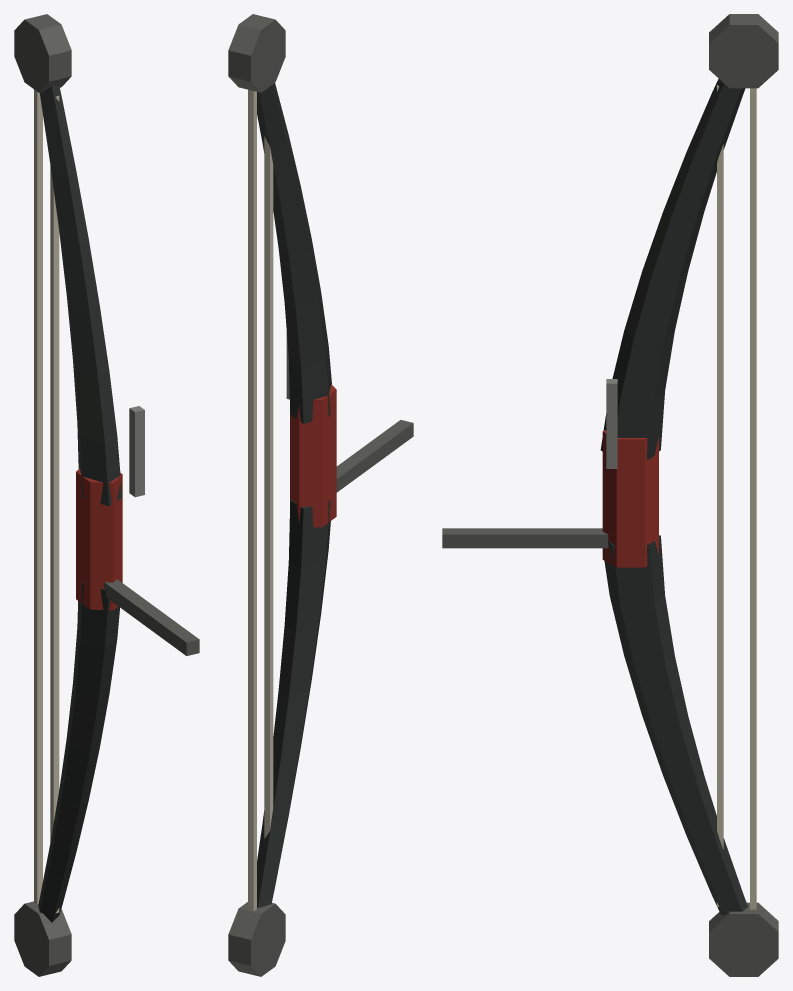
The model's file is arco_composto.glb.
3 views of the same model, side by side, from view 1: azimuth 30°, elevation 25°; view 2: azimuth 150°, elevation 25°; view 3: azimuth 270°, elevation 25° (orthographic).
Parts seen in each view (by area): view 1: arco_composto.001; view 2: arco_composto.001; view 3: arco_composto.001.
Boxes of the visible parts, x1=… form: arco_composto.001: x1=14, y1=14, x2=199, y2=976; arco_composto.001: x1=228, y1=14, x2=413, y2=976; arco_composto.001: x1=442, y1=14, x2=778, y2=976.
Size of the model in its own units: 0.062 by 1.11 by 0.357.
